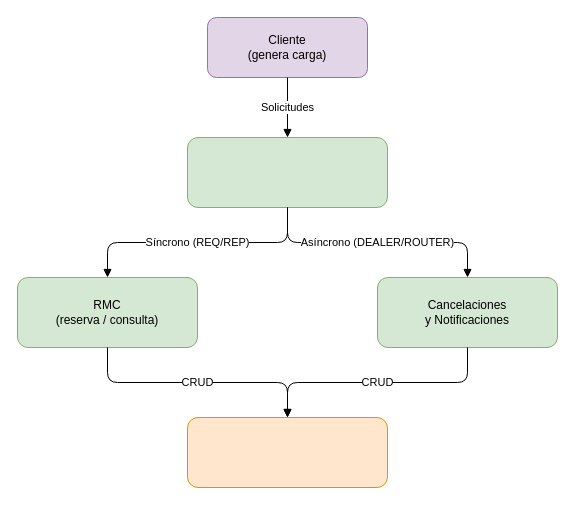
This 575x505 diagram has some shape labels left out. Each missing label, with the box of its shape:
Gestor de Transacciones (enrutador principal): (186, 136, 388, 208)
Persistencia (CRUD sobre datos): (186, 416, 388, 488)
